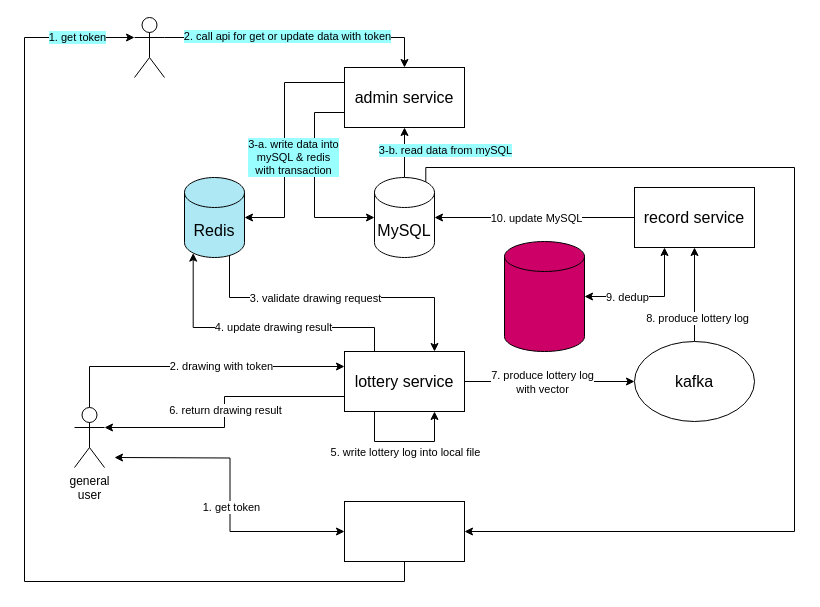
This 820x607 diagram has some shape labels left out. Each missing label, with the centre of its shape:
"admin" goes at (149,47).
"Aerospike" goes at (544,296).
"auth service" goes at (404,531).
